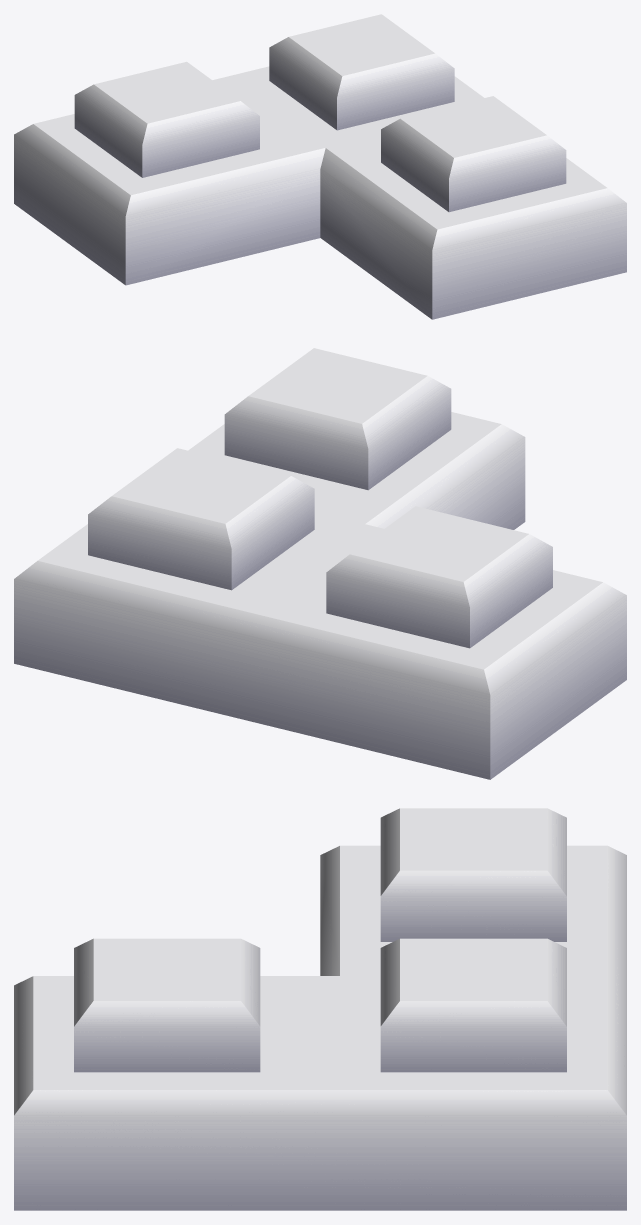
Rendered from square-hq-plate-corner.glb.
3 views of the same model, one above another, from view 1: azimuth 30°, elevation 25°; view 2: azimuth 150°, elevation 25°; view 3: azimuth 270°, elevation 25° (orthographic). The views are drawn at different scales.
Parts seen in each view (by area): view 1: square-hq-plate-corner; view 2: square-hq-plate-corner; view 3: square-hq-plate-corner.
Boxes of the visible parts, left/top/right/bottom form: square-hq-plate-corner: left=14, top=14, right=626, bottom=319; square-hq-plate-corner: left=14, top=348, right=626, bottom=779; square-hq-plate-corner: left=14, top=808, right=626, bottom=1210.
Size of the model in its own units: 0.159 by 0.05 by 0.158.
Materials: 1 (1 with a texture image).
